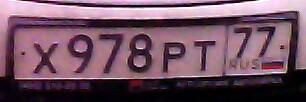license-plateSW: (12, 21, 294, 78)
